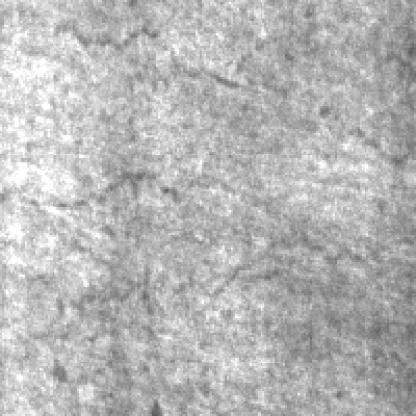crazing: (0, 177, 335, 318), (46, 31, 254, 140)
